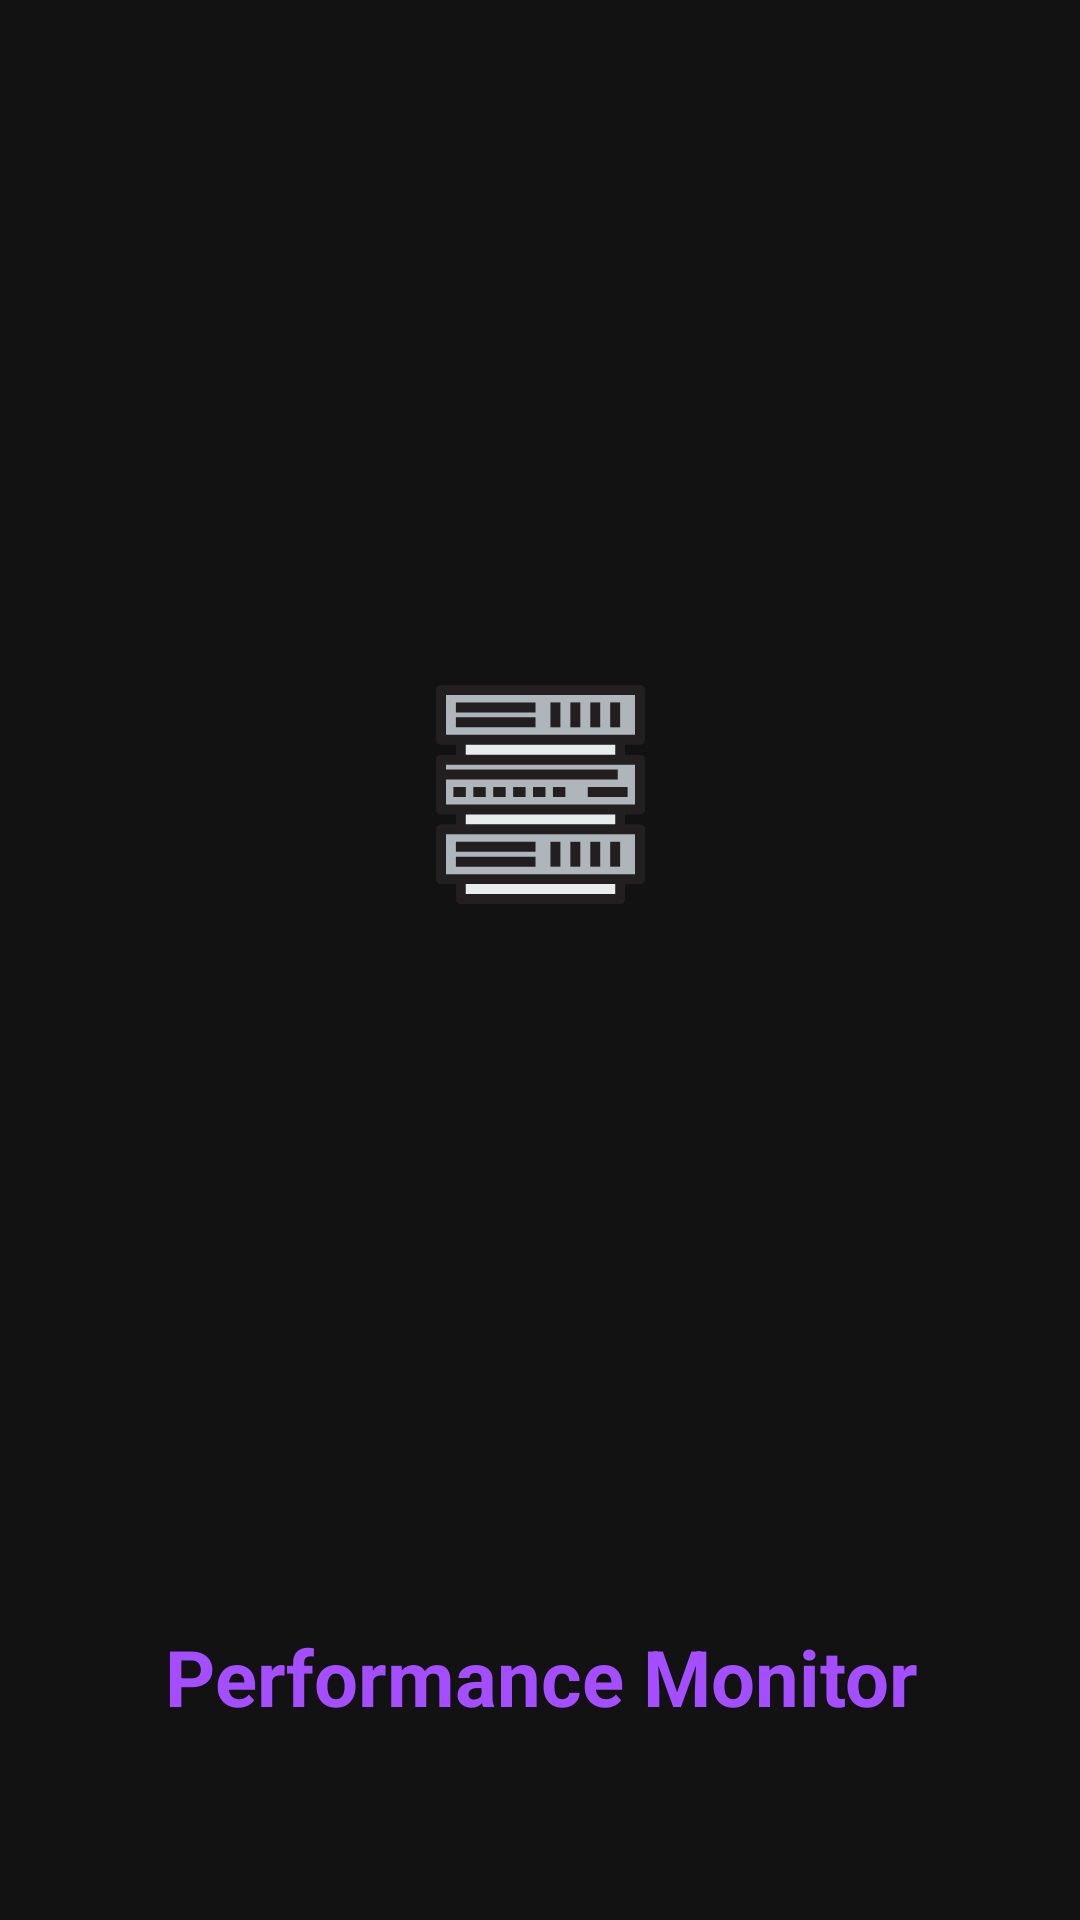

Icons on this 1080px×1920px Android screen, each with its box as (x1=x1, y1=y1, x2=x2, y2=y2):
serv: (x1=446, y1=695, x2=635, y2=894)
